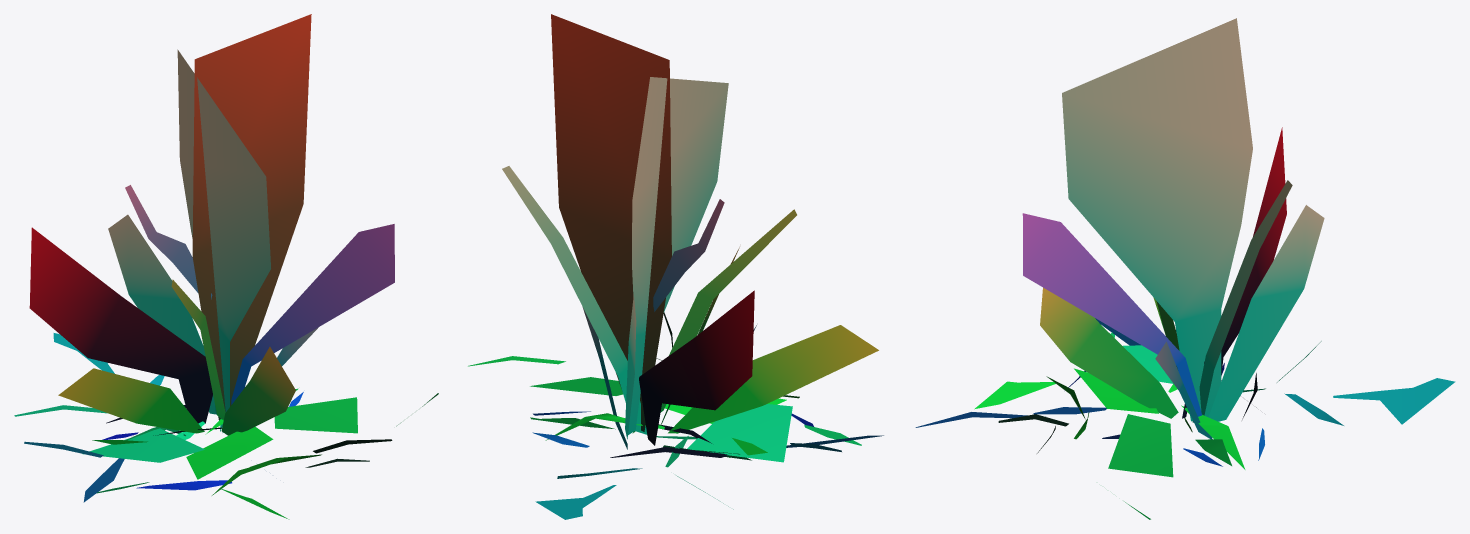
File: Dead_Shrubs_vdknafgha_Low_vdknafgha_VarB_LOD1.fbx
The picture shows the model from 3 angles, left to right: view 1: azimuth 30°, elevation 25°; view 2: azimuth 150°, elevation 25°; view 3: azimuth 270°, elevation 25°; orthographic projection. The views are drawn at different scales.
Parts seen in each view (by area): view 1: _hk3e_VarB_LOD2; view 2: _hk3e_VarB_LOD2; view 3: _hk3e_VarB_LOD2.
Part boxes in pixels (x1=…): _hk3e_VarB_LOD2: x1=14, y1=14, x2=438, y2=519; _hk3e_VarB_LOD2: x1=468, y1=14, x2=883, y2=519; _hk3e_VarB_LOD2: x1=915, y1=18, x2=1455, y2=519.
Bounding box in the file's own units: 26.54 × 26.11 × 29.99.
